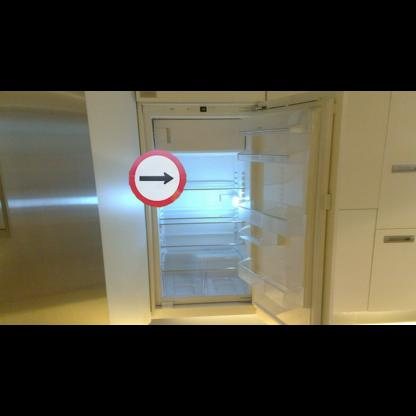R-24a: (129, 149, 186, 207)
